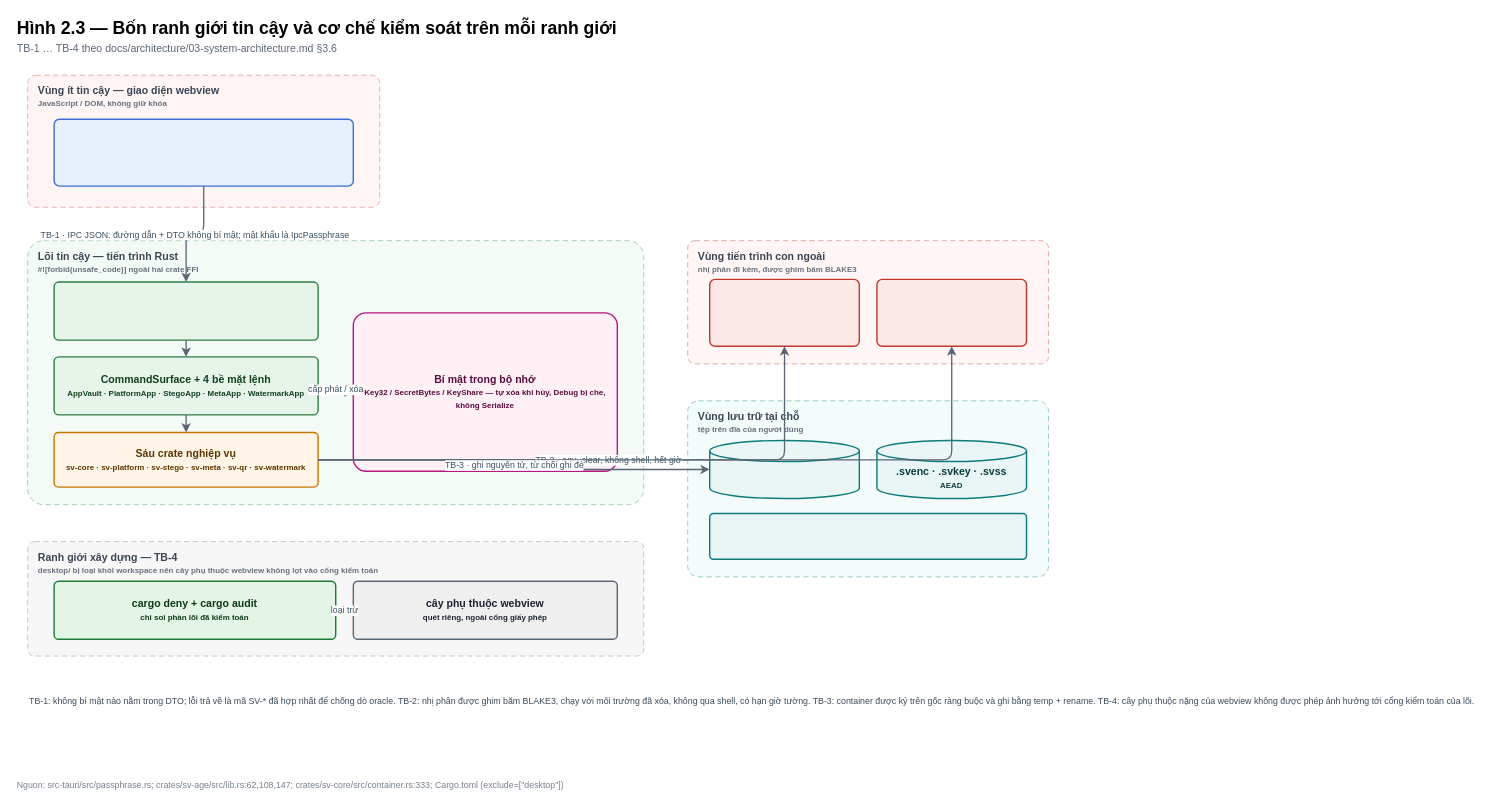
The diagram is 1489 pixels wide and 805 high, and some of its shapes have lost their labels. Each missing label, with the centre of its shape:
.svault ký + mã hóa: (784,469)
38 hàm #[tauri::command] desktop/src/lib.rs: (185,310)
age / age-keygen hết giờ 120 s: (784,312)
exiftool hết giờ 60 s, -config "": (951,312)
Giao diện tĩnh HTML · CSS · JS chỉ giữ SessionHandle mờ; hiển thị mã lỗi SV-*: (203,152)
ảnh mang dữ liệu ẩn / thủy vân (PNG · BMP · JPEG): (868,536)
